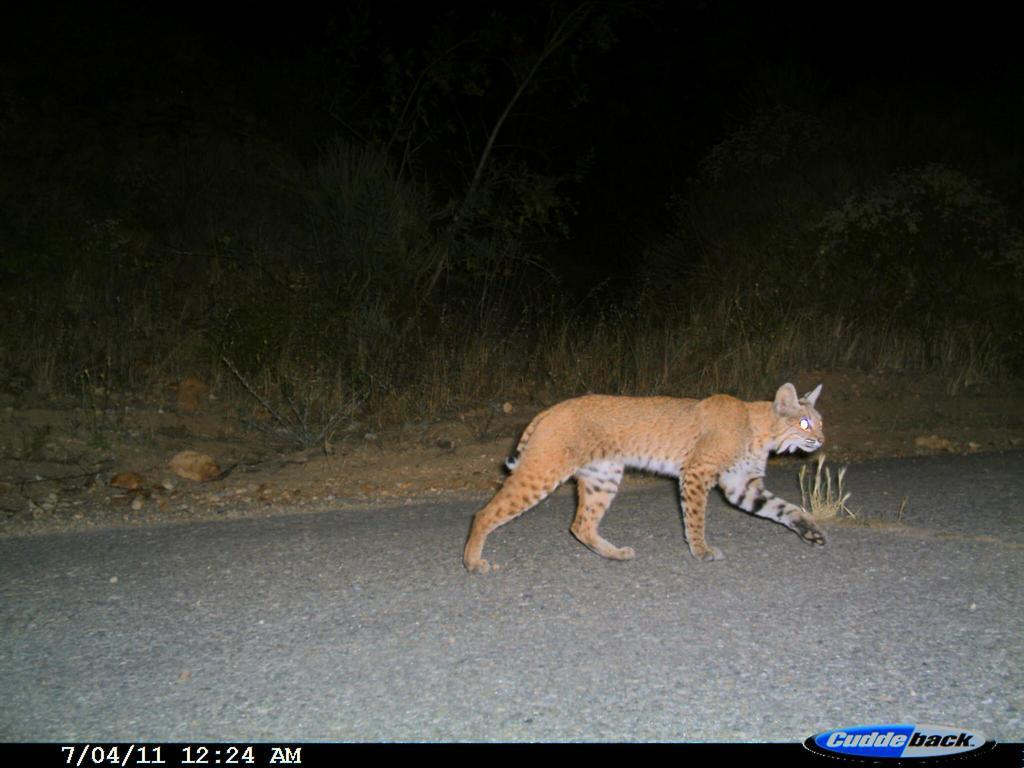bobcat: (455, 372, 872, 588)
